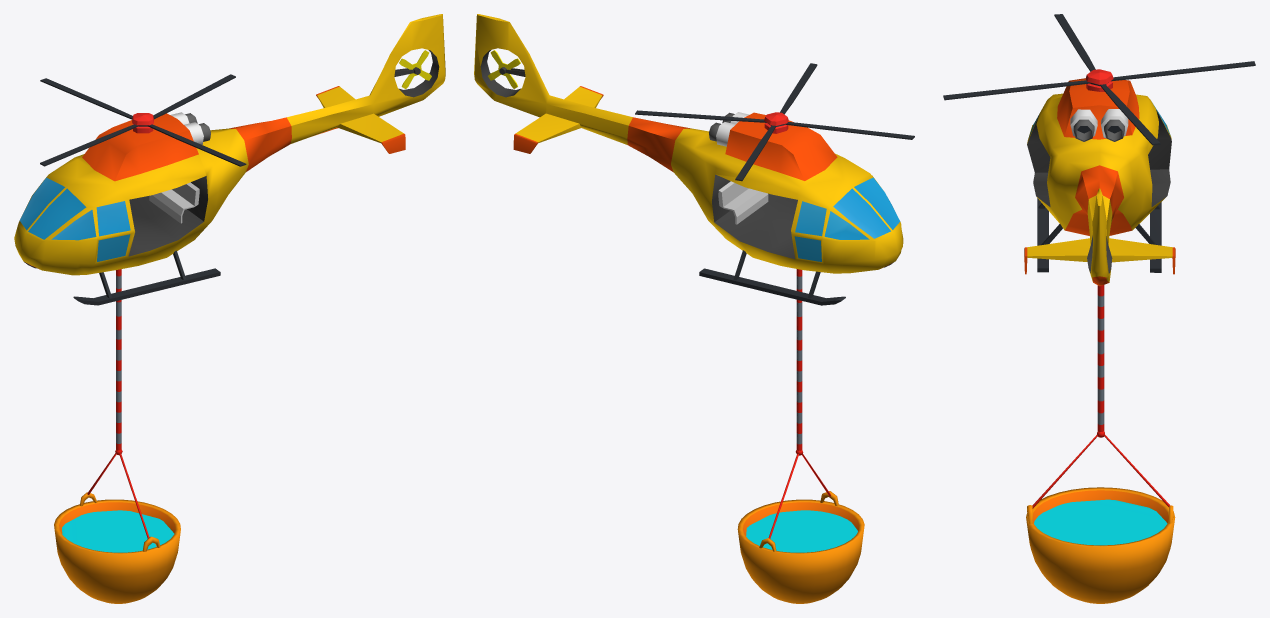
The model's file is COPTER N.fbx.
3 views of the same model, side by side, from view 1: azimuth 30°, elevation 25°; view 2: azimuth 150°, elevation 25°; view 3: azimuth 270°, elevation 25° (orthographic). The views are drawn at different scales.
Parts seen in each view (by area): view 1: Copter, Sphere.001, Circle, Propeller_2, Legs, Plane, Cube.003; view 2: Copter, Sphere.001, Circle, Propeller_2, Plane, Legs, Cube.003; view 3: Copter, Sphere.001, Circle, Propeller_2, Plane, Legs.
Boxes of the visible parts, bbox=[...] form: Copter: bbox=[14, 14, 445, 275]; Sphere.001: bbox=[54, 492, 180, 603]; Circle: bbox=[62, 510, 174, 552]; Propeller_2: bbox=[40, 74, 246, 166]; Legs: bbox=[24, 250, 220, 305]; Plane: bbox=[87, 269, 149, 538]; Cube.003: bbox=[149, 182, 199, 223]; Copter: bbox=[474, 14, 903, 273]; Sphere.001: bbox=[737, 491, 864, 603]; Circle: bbox=[746, 510, 857, 552]; Propeller_2: bbox=[635, 63, 914, 181]; Plane: bbox=[768, 269, 830, 538]; Legs: bbox=[699, 250, 893, 305]; Cube.003: bbox=[718, 181, 768, 224]; Copter: bbox=[1024, 78, 1175, 286]; Sphere.001: bbox=[1026, 487, 1175, 603]; Circle: bbox=[1034, 499, 1167, 545]; Propeller_2: bbox=[943, 14, 1255, 145]; Plane: bbox=[1032, 285, 1170, 508]; Legs: bbox=[1037, 198, 1161, 272].
Bounding box in the file's own units: 839 × 954 × 473.
